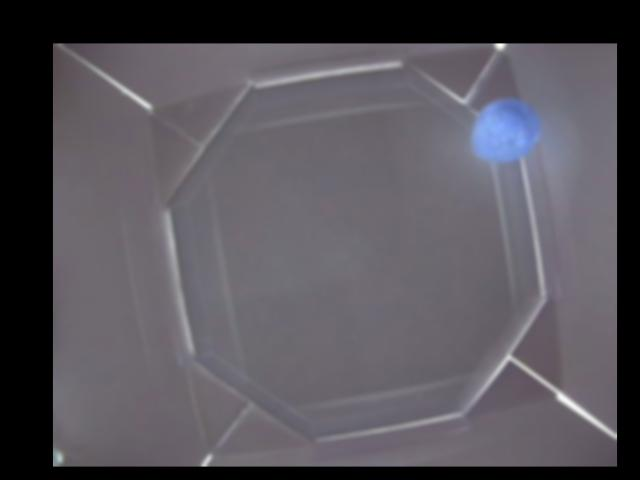Potato: (472, 95, 543, 160)
